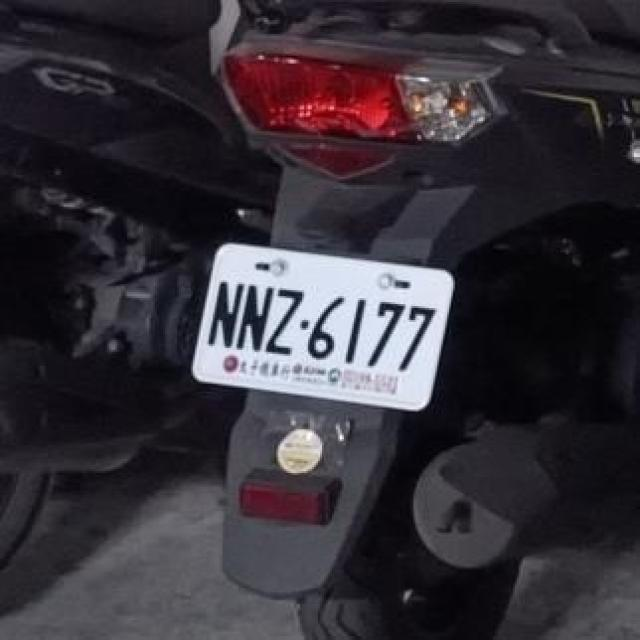W: (183, 226, 461, 419)
